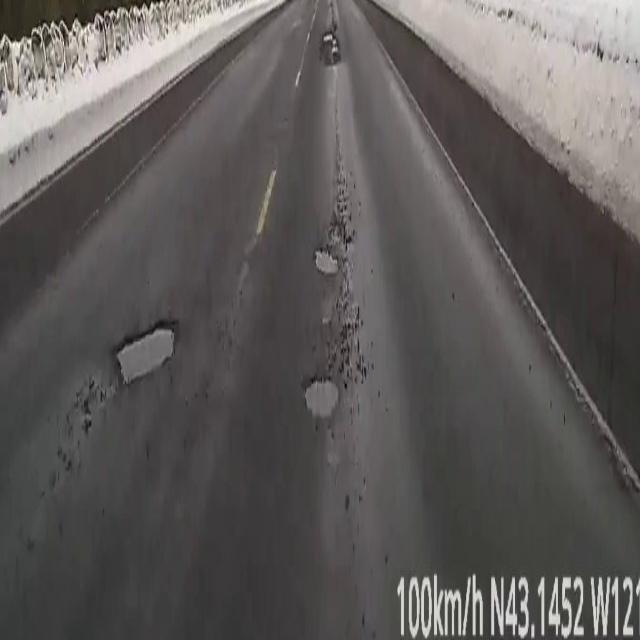pothole: (118, 326, 173, 384), (306, 378, 338, 416), (320, 26, 340, 64), (314, 248, 338, 276)
